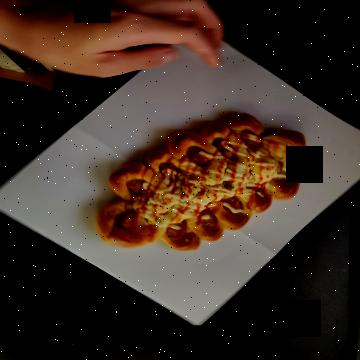pizza_bread: (118, 52, 256, 271)
